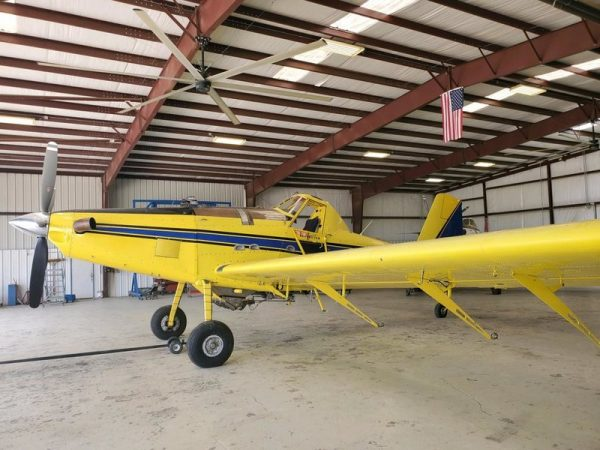Aeronef_de_service: (1, 133, 600, 378)
